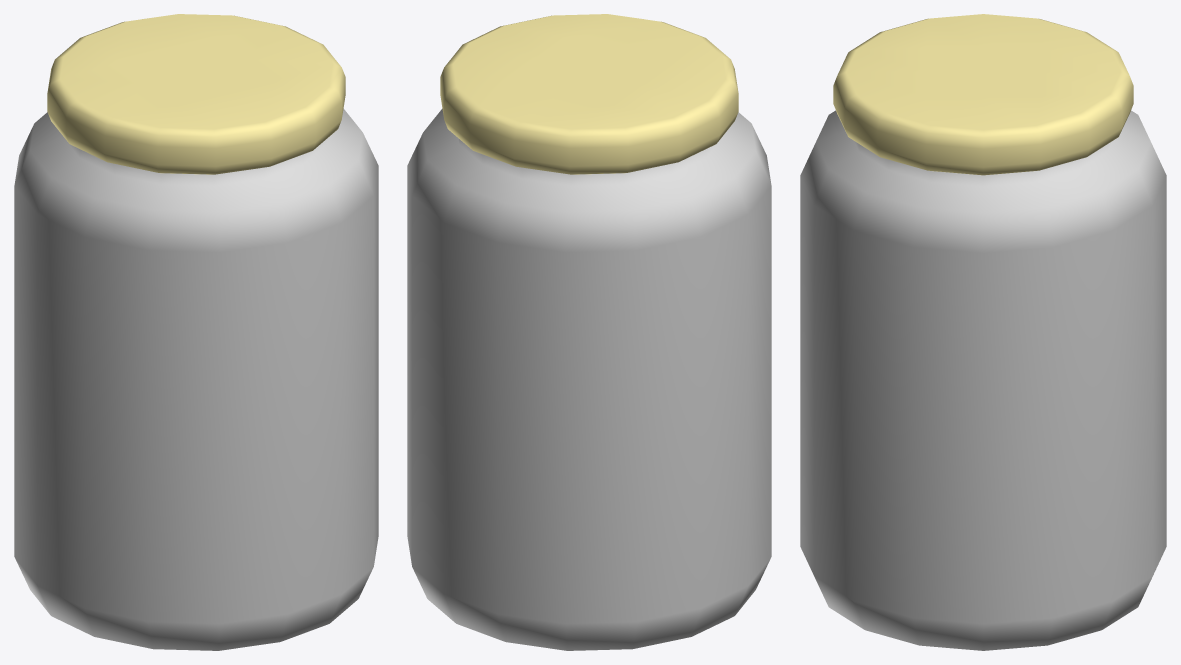
Rendered from FishInGlassJar_02.fbx.
3 views of the same model, side by side, from view 1: azimuth 30°, elevation 25°; view 2: azimuth 150°, elevation 25°; view 3: azimuth 270°, elevation 25° (orthographic).
Parts seen in each view (by area): view 1: FishInGlassJar_02; view 2: FishInGlassJar_02; view 3: FishInGlassJar_02.
Part boxes in pixels (<box>): FishInGlassJar_02: <box>14,14,378,650</box>; FishInGlassJar_02: <box>407,14,771,650</box>; FishInGlassJar_02: <box>800,14,1166,650</box>.
Bounding box in the file's own units: 2.91 × 4.57 × 2.91.
